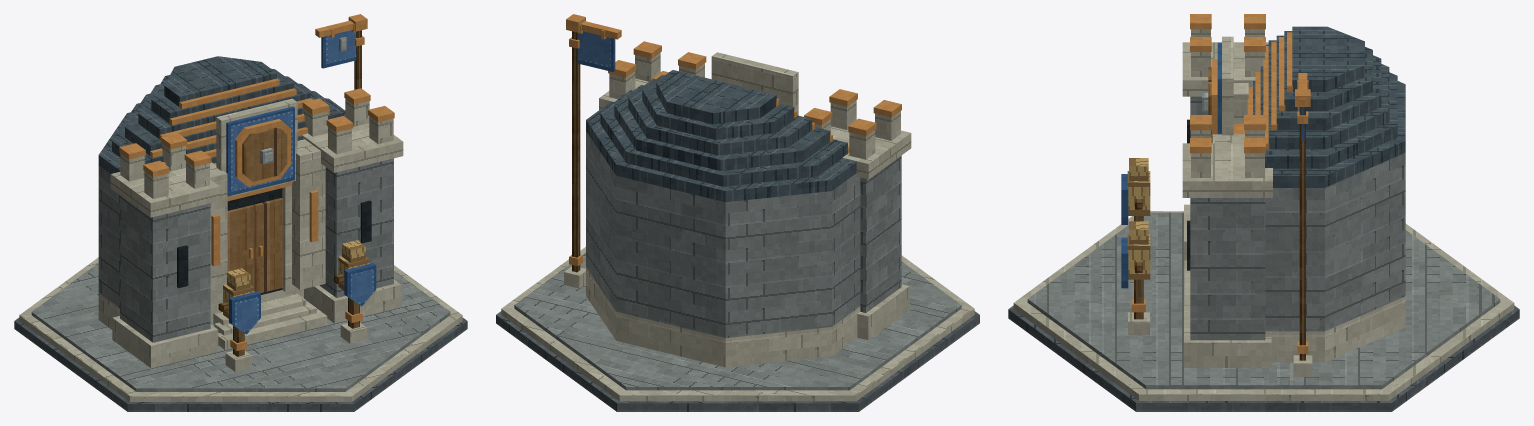
File: dwarf_guardian_mastery_hex_v1.glb
3 renders of one model, left to right at view 1: azimuth 30°, elevation 25°; view 2: azimuth 150°, elevation 25°; view 3: azimuth 270°, elevation 25°, orthographic. The views are drawn at different scales.
Visible parts, largest first — view 1: Dwarf_Guardian_Mastery_Hex_V1_Focus, Dwarf_Guardian_Mastery_Hex_V1_Foundation, Dwarf_Guardian_Mastery_Hex_V1_Hall, Dwarf_Guardian_Mastery_Hex_V1_Roofs, Dwarf_Guardian_Mastery_Hex_V1_Faction, Dwarf_Guardian_Mastery_Hex_V1_Training, Dwarf_Guardian_Mastery_Hex_V1_Courtyard, Dwarf_Guardian_Mastery_Hex_V1_Details; view 2: Dwarf_Guardian_Mastery_Hex_V1_Hall, Dwarf_Guardian_Mastery_Hex_V1_Foundation, Dwarf_Guardian_Mastery_Hex_V1_Roofs, Dwarf_Guardian_Mastery_Hex_V1_Focus, Dwarf_Guardian_Mastery_Hex_V1_Faction; view 3: Dwarf_Guardian_Mastery_Hex_V1_Foundation, Dwarf_Guardian_Mastery_Hex_V1_Hall, Dwarf_Guardian_Mastery_Hex_V1_Focus, Dwarf_Guardian_Mastery_Hex_V1_Roofs, Dwarf_Guardian_Mastery_Hex_V1_Faction, Dwarf_Guardian_Mastery_Hex_V1_Training, Dwarf_Guardian_Mastery_Hex_V1_Details.
Boxes of the visible parts, bbox=[...] form: Dwarf_Guardian_Mastery_Hex_V1_Focus: bbox=[110, 88, 403, 368]; Dwarf_Guardian_Mastery_Hex_V1_Foundation: bbox=[14, 257, 467, 411]; Dwarf_Guardian_Mastery_Hex_V1_Hall: bbox=[98, 139, 325, 329]; Dwarf_Guardian_Mastery_Hex_V1_Roofs: bbox=[98, 56, 345, 173]; Dwarf_Guardian_Mastery_Hex_V1_Faction: bbox=[216, 14, 367, 197]; Dwarf_Guardian_Mastery_Hex_V1_Training: bbox=[218, 240, 376, 371]; Dwarf_Guardian_Mastery_Hex_V1_Courtyard: bbox=[213, 293, 327, 349]; Dwarf_Guardian_Mastery_Hex_V1_Details: bbox=[177, 36, 371, 351]; Dwarf_Guardian_Mastery_Hex_V1_Hall: bbox=[586, 131, 860, 367]; Dwarf_Guardian_Mastery_Hex_V1_Foundation: bbox=[496, 247, 979, 411]; Dwarf_Guardian_Mastery_Hex_V1_Roofs: bbox=[586, 70, 856, 202]; Dwarf_Guardian_Mastery_Hex_V1_Focus: bbox=[599, 41, 911, 340]; Dwarf_Guardian_Mastery_Hex_V1_Faction: bbox=[564, 14, 798, 288]; Dwarf_Guardian_Mastery_Hex_V1_Foundation: bbox=[1008, 211, 1519, 411]; Dwarf_Guardian_Mastery_Hex_V1_Hall: bbox=[1212, 83, 1405, 362]; Dwarf_Guardian_Mastery_Hex_V1_Focus: bbox=[1182, 14, 1272, 367]; Dwarf_Guardian_Mastery_Hex_V1_Roofs: bbox=[1247, 26, 1405, 187]; Dwarf_Guardian_Mastery_Hex_V1_Faction: bbox=[1202, 36, 1312, 376]; Dwarf_Guardian_Mastery_Hex_V1_Training: bbox=[1121, 158, 1150, 335]; Dwarf_Guardian_Mastery_Hex_V1_Details: bbox=[1131, 111, 1308, 353].
Size of the model in its own units: 1.59 by 1.19 by 1.84.
1 material, 1 textured.
